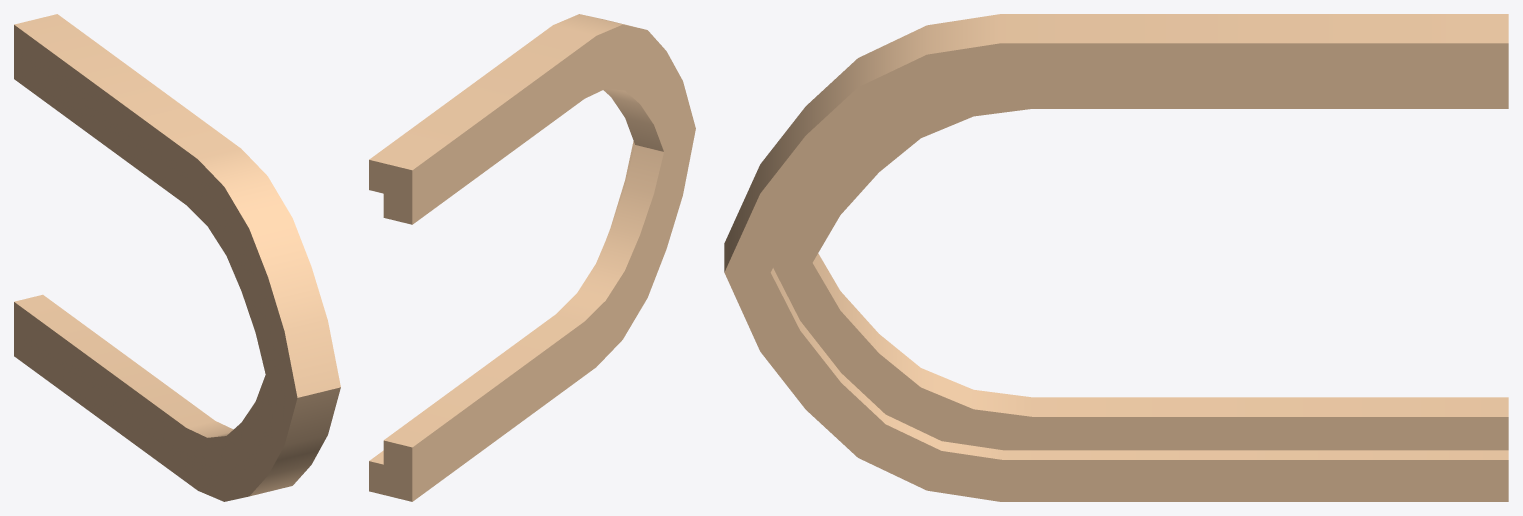
The model's file is Door_Pointed.fbx.
3 views of the same model, side by side, from view 1: azimuth 30°, elevation 25°; view 2: azimuth 150°, elevation 25°; view 3: azimuth 270°, elevation 25° (orthographic). The views are drawn at different scales.
Visible parts, largest first — view 1: Pointed Arch.006, Pointed Arch.005; view 2: Pointed Arch.006, Pointed Arch.005; view 3: Pointed Arch.006, Pointed Arch.005.
Part boxes in pixels (box(x1,y1,x2,y2)): Pointed Arch.006: box(14, 14, 340, 501); Pointed Arch.005: box(14, 55, 280, 469); Pointed Arch.006: box(369, 14, 695, 501); Pointed Arch.005: box(383, 57, 678, 477); Pointed Arch.006: box(724, 14, 1508, 501); Pointed Arch.005: box(773, 85, 1508, 450).
Size of the model in its own units: 1.5 by 10.94 by 16.95.
